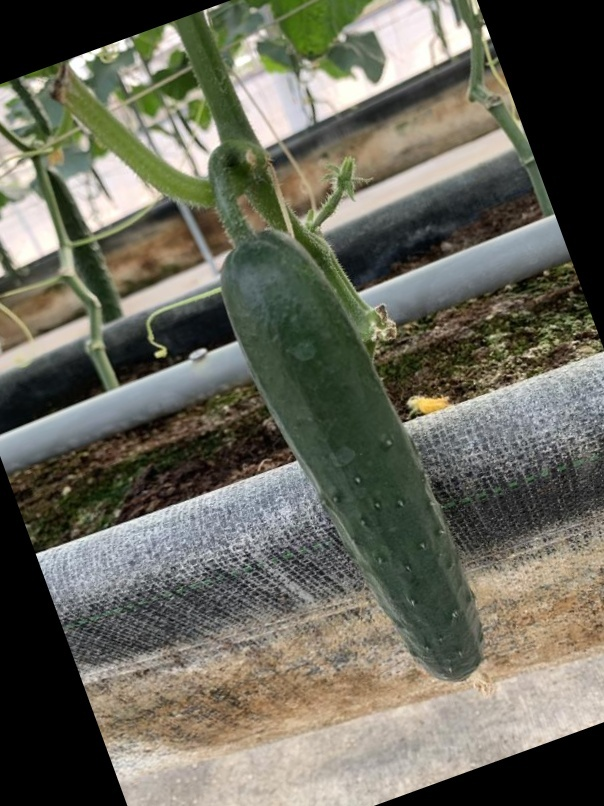mature: (227, 223, 488, 683)
